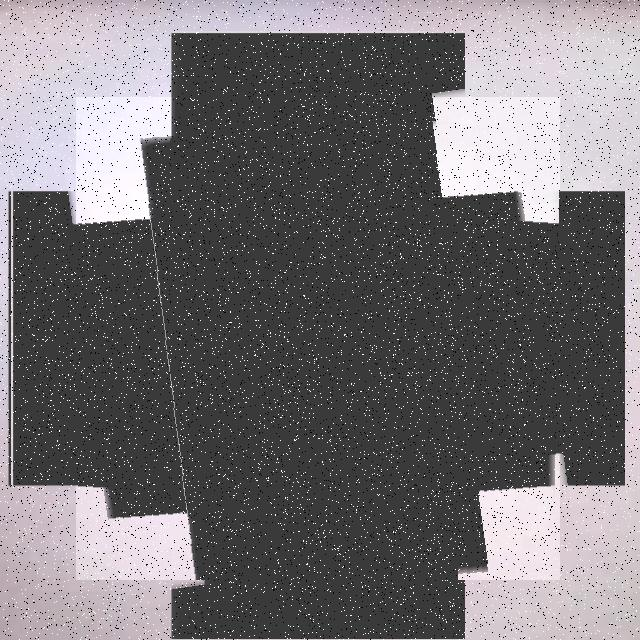lima puluh ribu rupiah: (76, 97, 560, 580)
